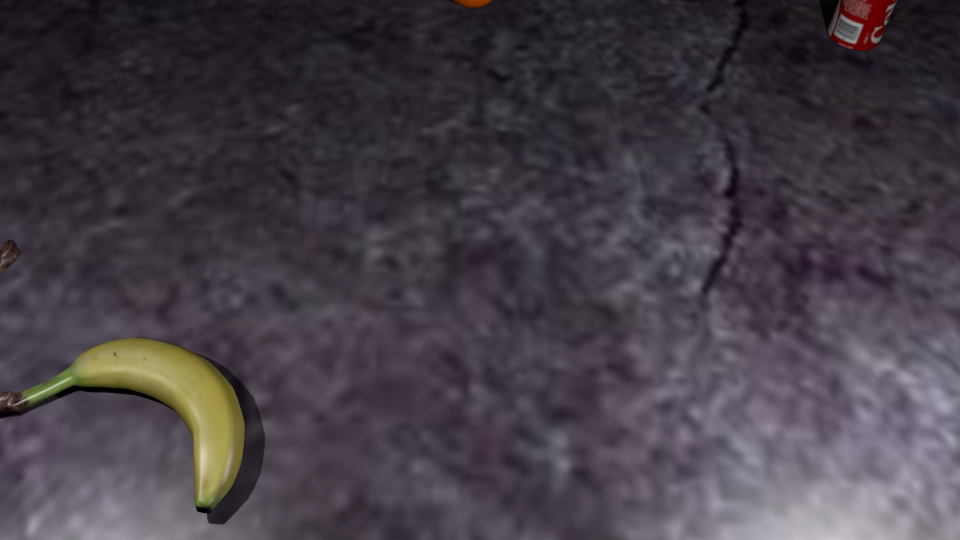banana: (1, 338, 245, 511), (1, 242, 20, 273)
cola_can: (831, 1, 897, 51)
orange: (457, 1, 493, 7)
